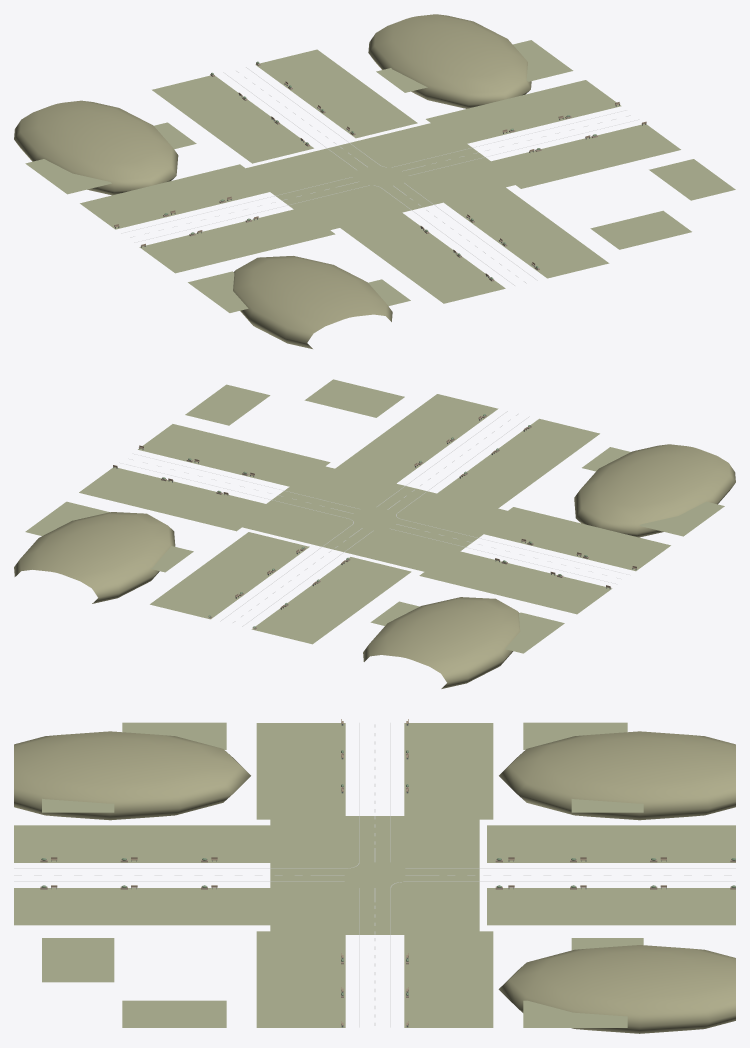
3 views of the same model, one above another, from view 1: azimuth 30°, elevation 25°; view 2: azimuth 150°, elevation 25°; view 3: azimuth 270°, elevation 25° (orthographic). The views are drawn at different scales.
Parts seen in each view (by area): view 1: static; view 2: static; view 3: static.
Part boxes in pixels (left/top/right/bottom): static: left=14, top=14, right=735, bottom=348; static: left=14, top=379, right=735, bottom=688; static: left=14, top=719, right=735, bottom=1033.
Size of what is drawn, in the model's own units: 180 by 14.08 by 180.
